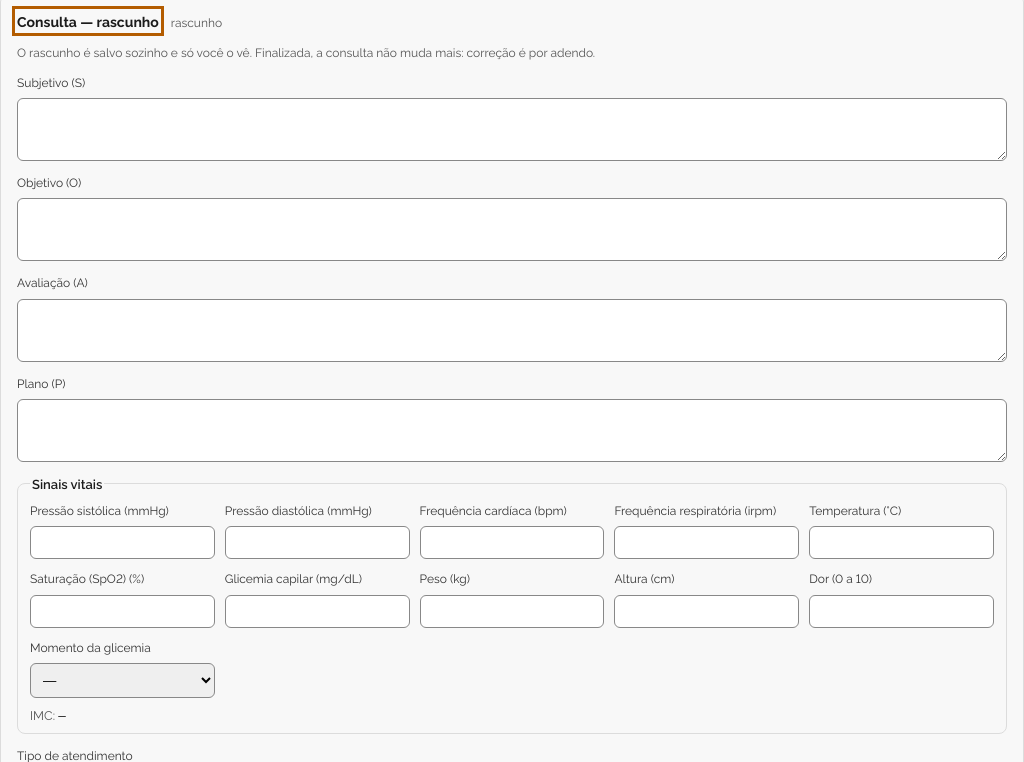
Test: ConsultationEditor › sinal vital fora do plausível não vai no rascunho e trava a finalização
Type "400" into the field labelled "Pressão sistólica (mmHg)" at (122, 543), box [30,526,215,560]
(page scrolled)
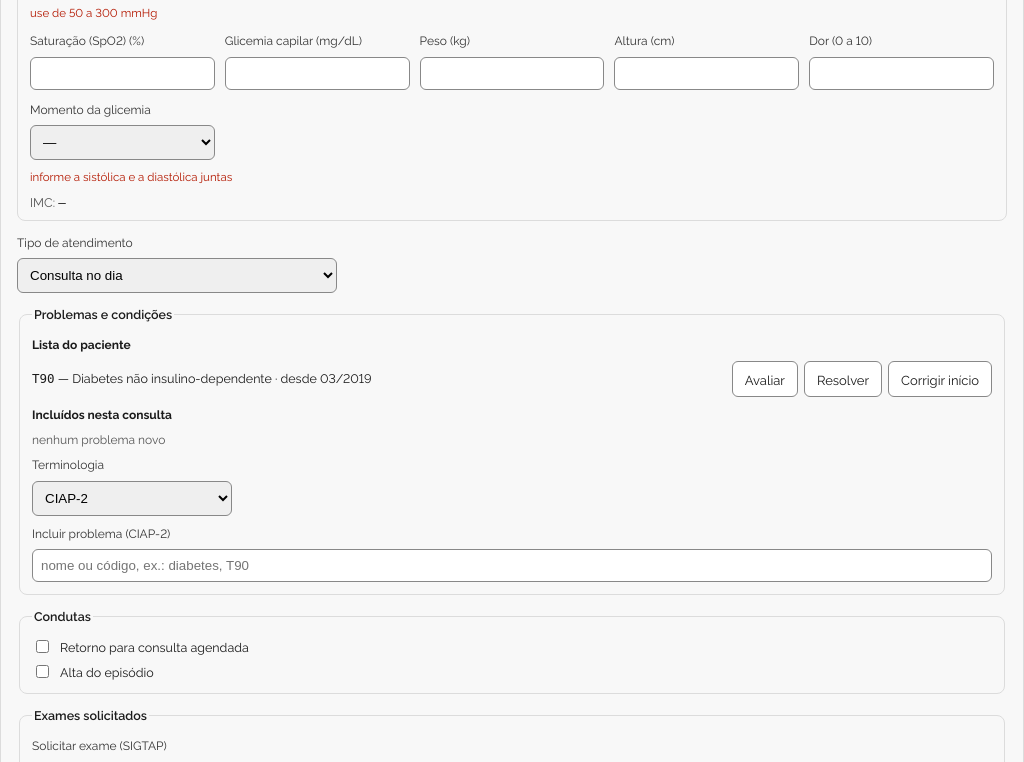
Click the button with aria-label "Avaliar T90" at (765, 379), box [732,361,798,397]
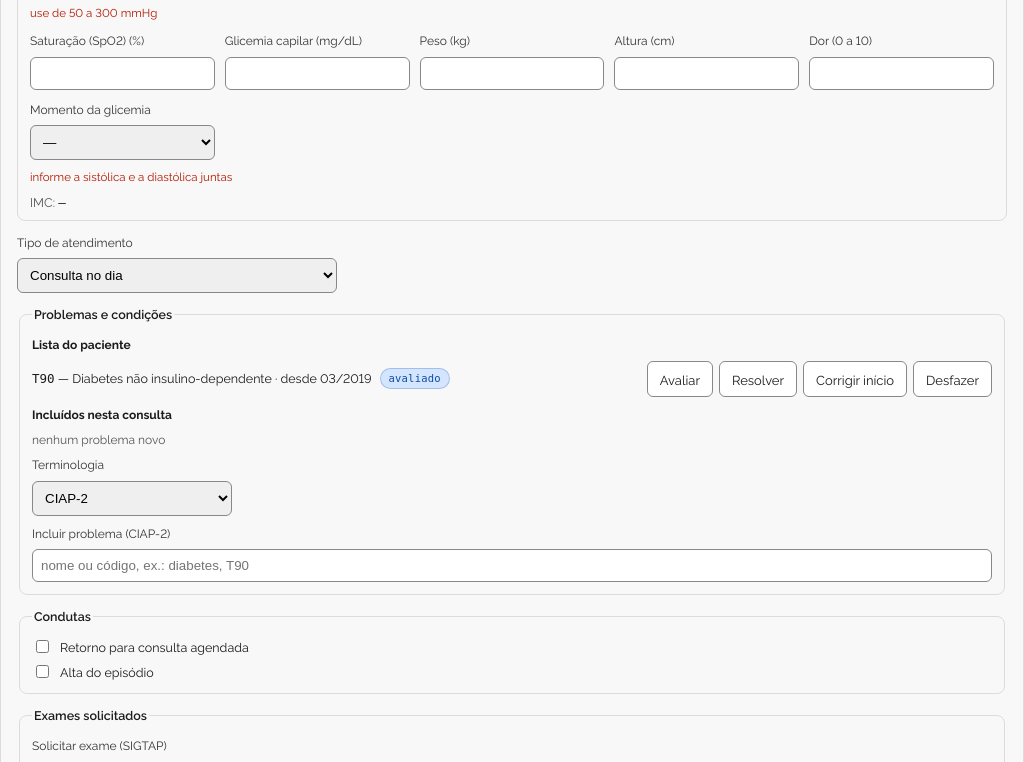
Click the checkbox labelled "Retorno para consulta agendada" at (42, 647), box [36,640,49,653]
(page scrolled)
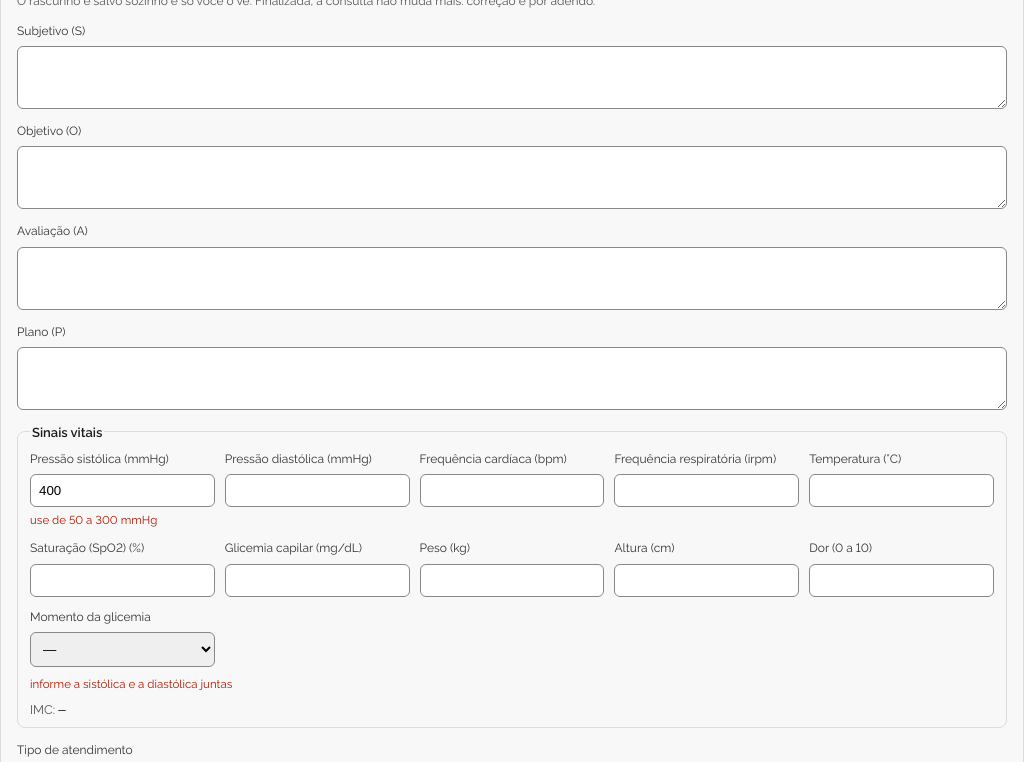
Type "Ajuste de dose; retorno em 30 dias." into the text box labelled "Plano (P)" at (512, 379), box [17,347,1007,410]
(page scrolled)
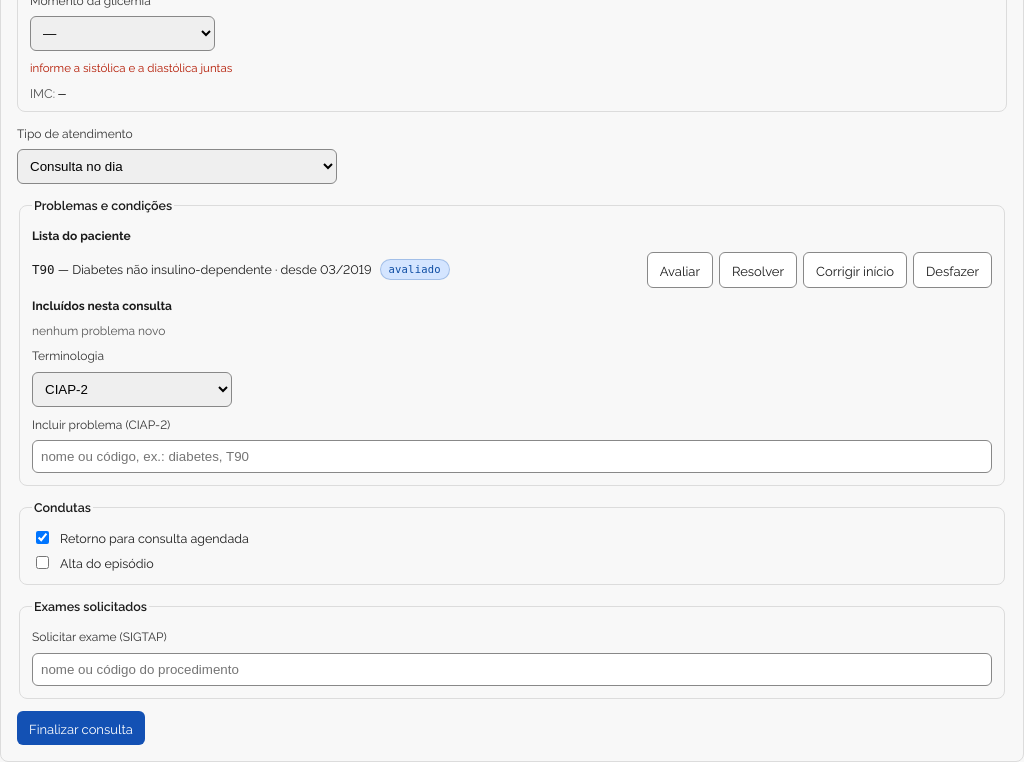
Click the button "Finalizar consulta" at (81, 728), box [17,711,145,745]
(page scrolled)
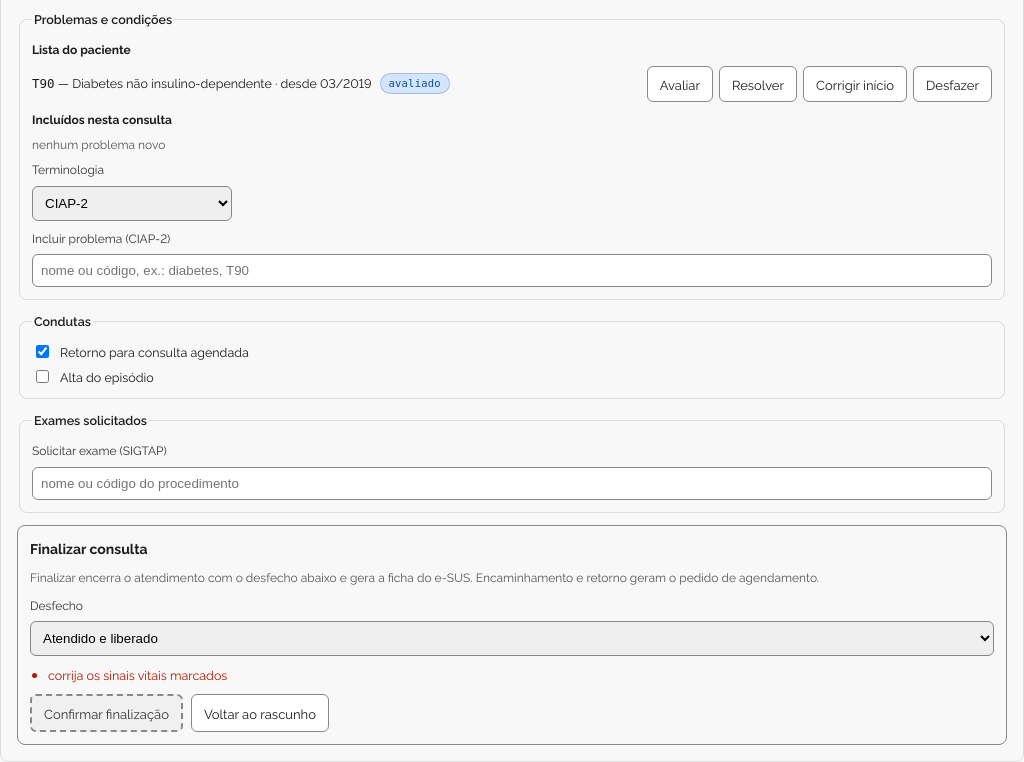
Check: the list named "o que falta para finalizar" reads "corrija os sinais vitais marcados", box [48,666,227,683]
